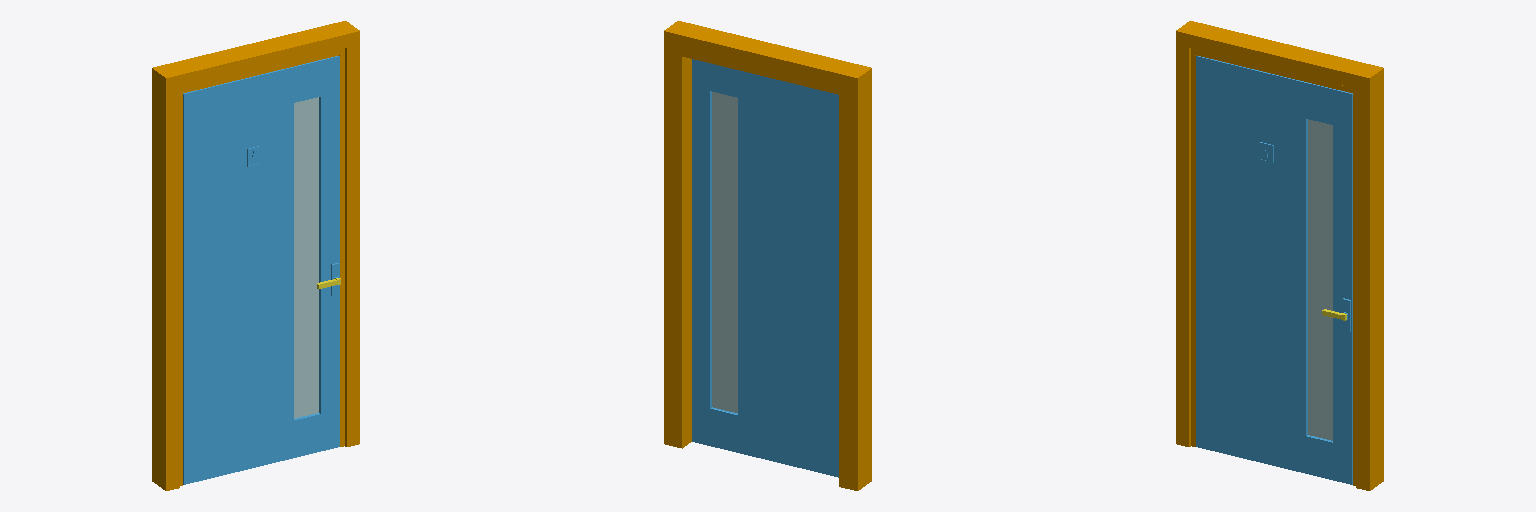
robot.urdf — pale_wood_glazed_push_door:
<robot name="pale_wood_glazed_push_door">
  <material name="pale_oak">
    <color rgba="0.72 0.7 0.64 1" />
  </material>
  <material name="frame_oak">
    <color rgba="0.66 0.64 0.59 1" />
  </material>
  <material name="frosted_glass">
    <color rgba="0.72 0.84 0.84 0.62" />
  </material>
  <material name="black_hardware">
    <color rgba="0.025 0.03 0.03 1" />
  </material>
  <material name="plaque_white">
    <color rgba="0.91 0.91 0.88 1" />
  </material>
  <link name="frame">
    <visual name="frame">
      <geometry>
        <mesh filename="assets/meshes/frame.obj" />
      </geometry>
    </visual>
    <collision name="frame_collision">
      <geometry>
        <mesh filename="assets/meshes/frame.obj" />
      </geometry>
    </collision>
  </link>
  <link name="door_leaf">
    <visual name="door_leaf_opaque">
      <geometry>
        <mesh filename="assets/meshes/door_leaf_opaque.obj" />
      </geometry>
    </visual>
    <visual name="door_leaf_frosted_lite">
      <geometry>
        <mesh filename="assets/meshes/door_leaf_frosted_lite.obj" />
      </geometry>
      <material name="frosted_glass">
        <color rgba="0.72 0.84 0.84 0.62" />
      </material>
    </visual>
    <collision name="door_leaf_collision">
      <geometry>
        <mesh filename="assets/meshes/door_leaf_opaque.obj" />
      </geometry>
    </collision>
  </link>
  <link name="handle_mount">
    </link>
  <link name="lever_handle">
    <visual name="lever_handle">
      <geometry>
        <mesh filename="assets/meshes/lever_handle.obj" />
      </geometry>
    </visual>
    <collision name="lever_handle_collision">
      <geometry>
        <mesh filename="assets/meshes/lever_handle.obj" />
      </geometry>
    </collision>
  </link>
  <joint name="frame_to_door_leaf" type="revolute">
    <origin xyz="-0.443226 -0.015 0.004" rpy="0 0 0" />
    <parent link="frame" />
    <child link="door_leaf" />
    <axis xyz="0 0 1" />
    <limit effort="80" velocity="1.5" lower="0" upper="1.72" />
  </joint>
  <joint name="door_to_handle_mount" type="fixed">
    <origin xyz="0.8613 -0.021 0.922" rpy="0 0 0" />
    <parent link="door_leaf" />
    <child link="handle_mount" />
  </joint>
  <joint name="mount_to_handle" type="revolute">
    <origin xyz="0 -0.022 0" rpy="0 0 0" />
    <parent link="handle_mount" />
    <child link="lever_handle" />
    <axis xyz="0 -1 0" />
    <limit effort="12" velocity="4" lower="0" upper="0.95" />
  </joint>
</robot>

--- Facts derived from the render (not from the file) ---
The picture shows the robot from 3 angles, left to right: view 1: azimuth 30°, elevation 25°; view 2: azimuth 150°, elevation 25°; view 3: azimuth 330°, elevation 25°; orthographic projection.
Model pale_wood_glazed_push_door with 4 links and 3 joints (2 revolute, 1 fixed), rooted at frame, posed every joint at zero.
Links seen in each view (by area): view 1: door_leaf, frame; view 2: door_leaf, frame; view 3: door_leaf, frame.
Boxes of the visible links, x1,y1,x2,y2 form: door_leaf: [183, 56, 339, 484]; frame: [152, 21, 359, 490]; door_leaf: [692, 59, 838, 477]; frame: [664, 21, 871, 490]; door_leaf: [1196, 56, 1352, 484]; frame: [1176, 21, 1383, 490].
Bounding box of the posed robot: 1.11 × 0.171 × 2.25 m (x, y, z).
Meshes: 4 distinct files referenced, 4 mesh visuals loaded (4 OBJ).
